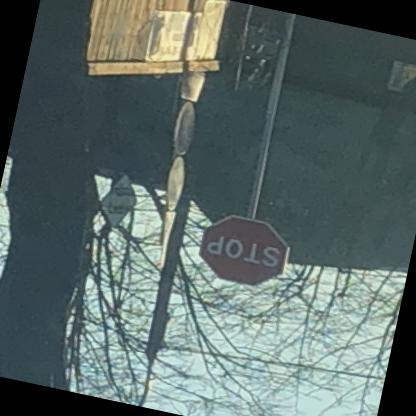stop: (193, 209, 296, 294)
